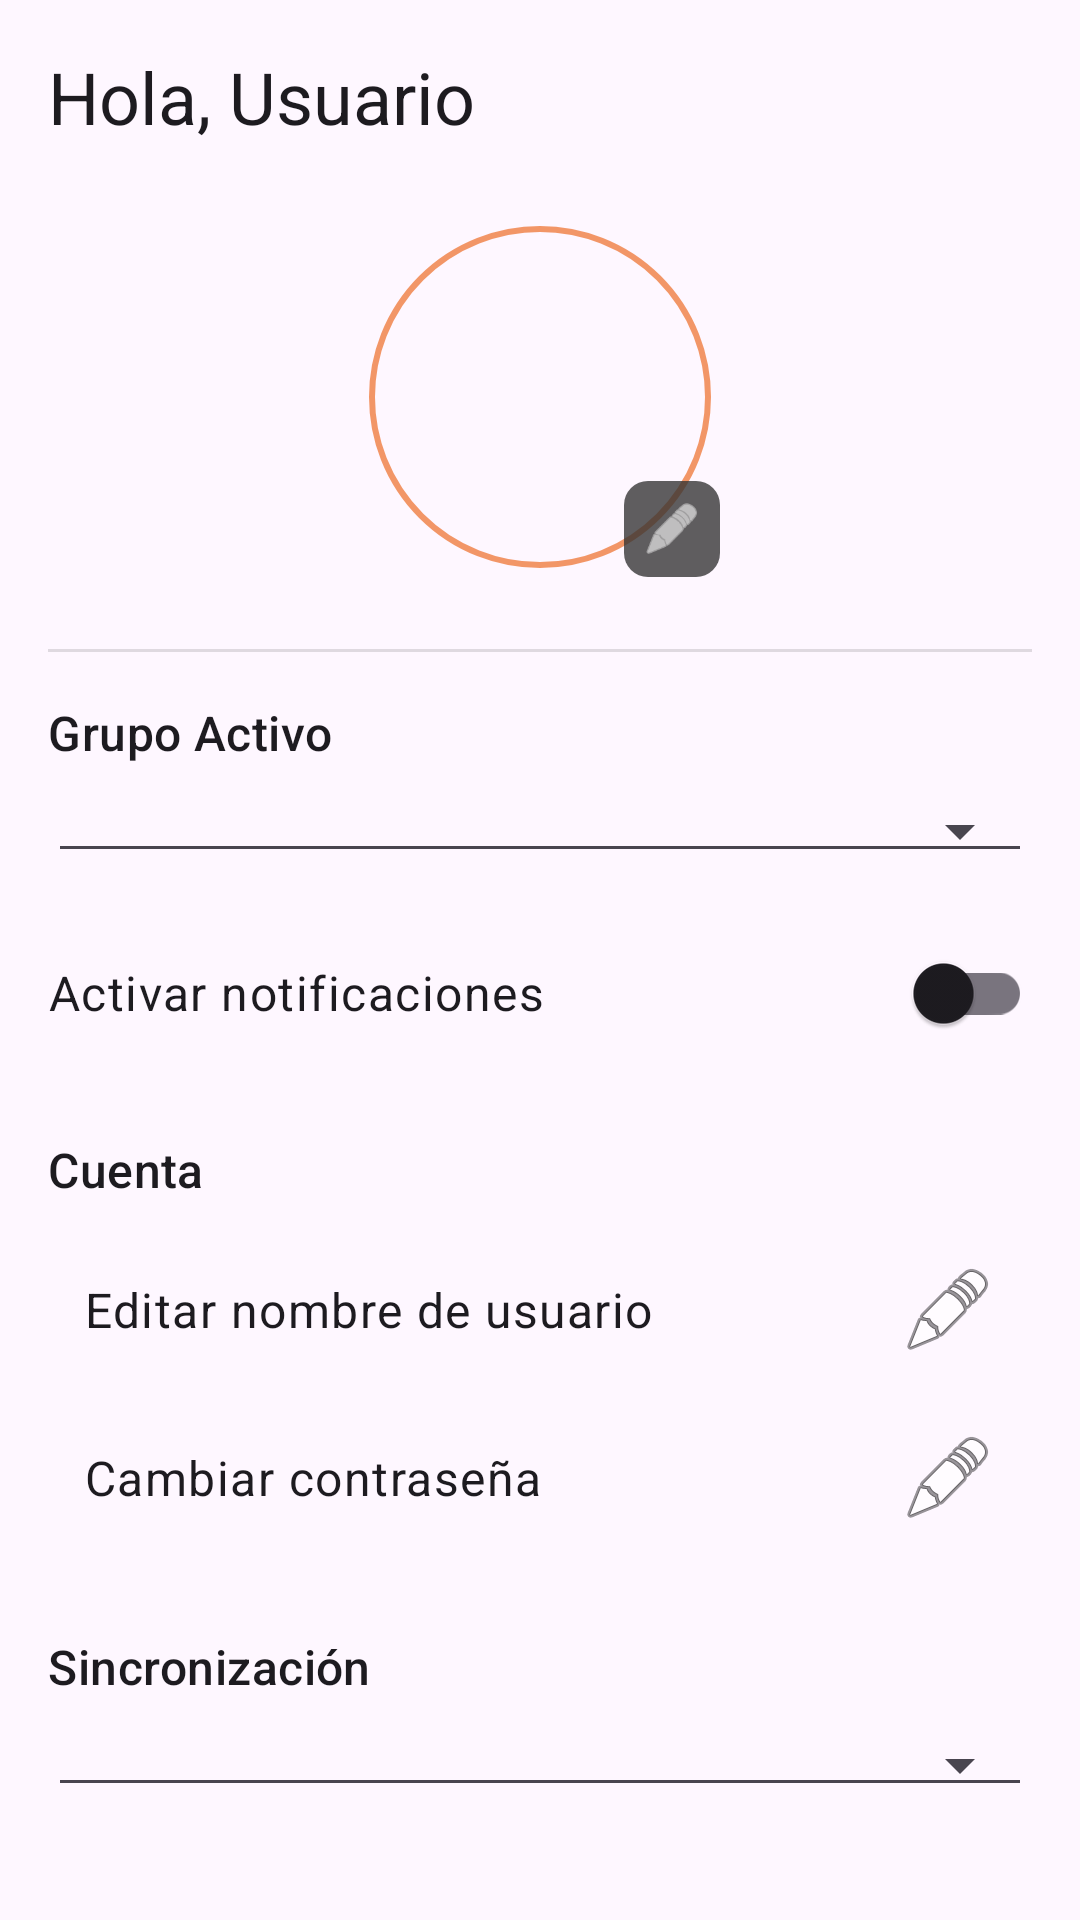

Point at icon controls on the screen. Image size 1080px x 1920px, points as point (x, y).
edit: point (672, 529)
